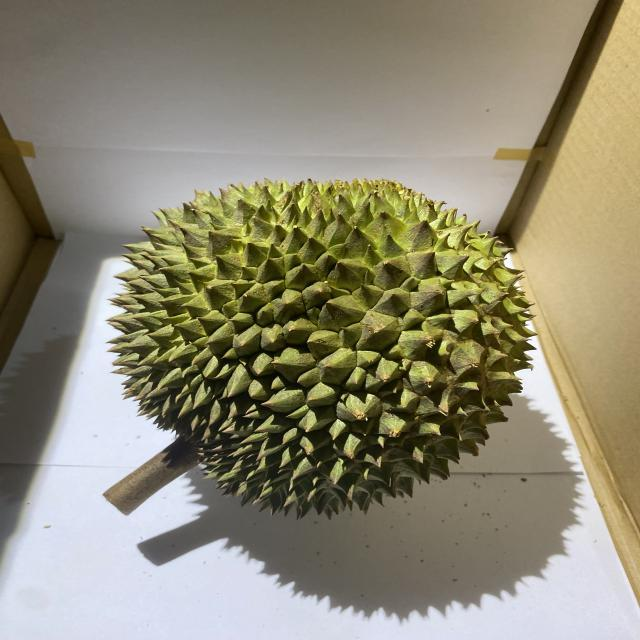immature: (103, 174, 538, 521)
